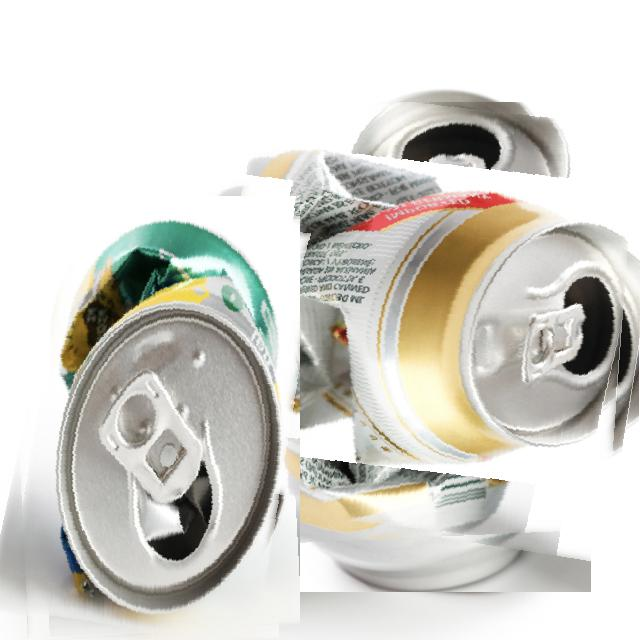recyclable: (215, 102, 640, 548), (6, 196, 300, 640)
